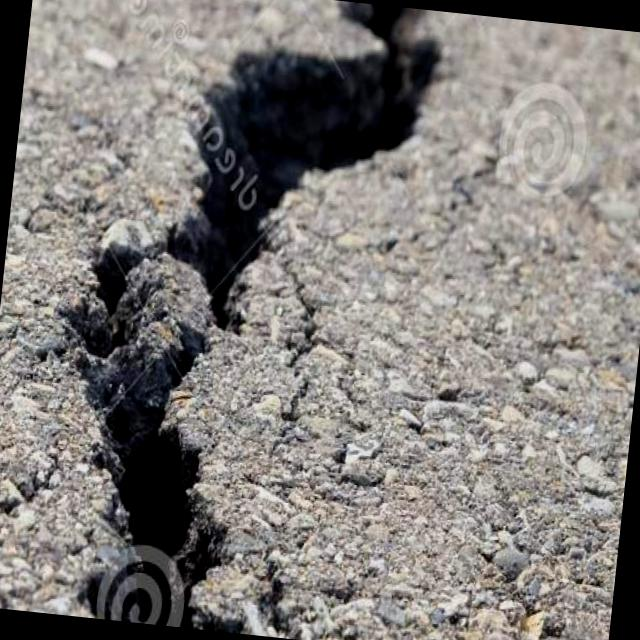crack: (30, 0, 443, 640)
